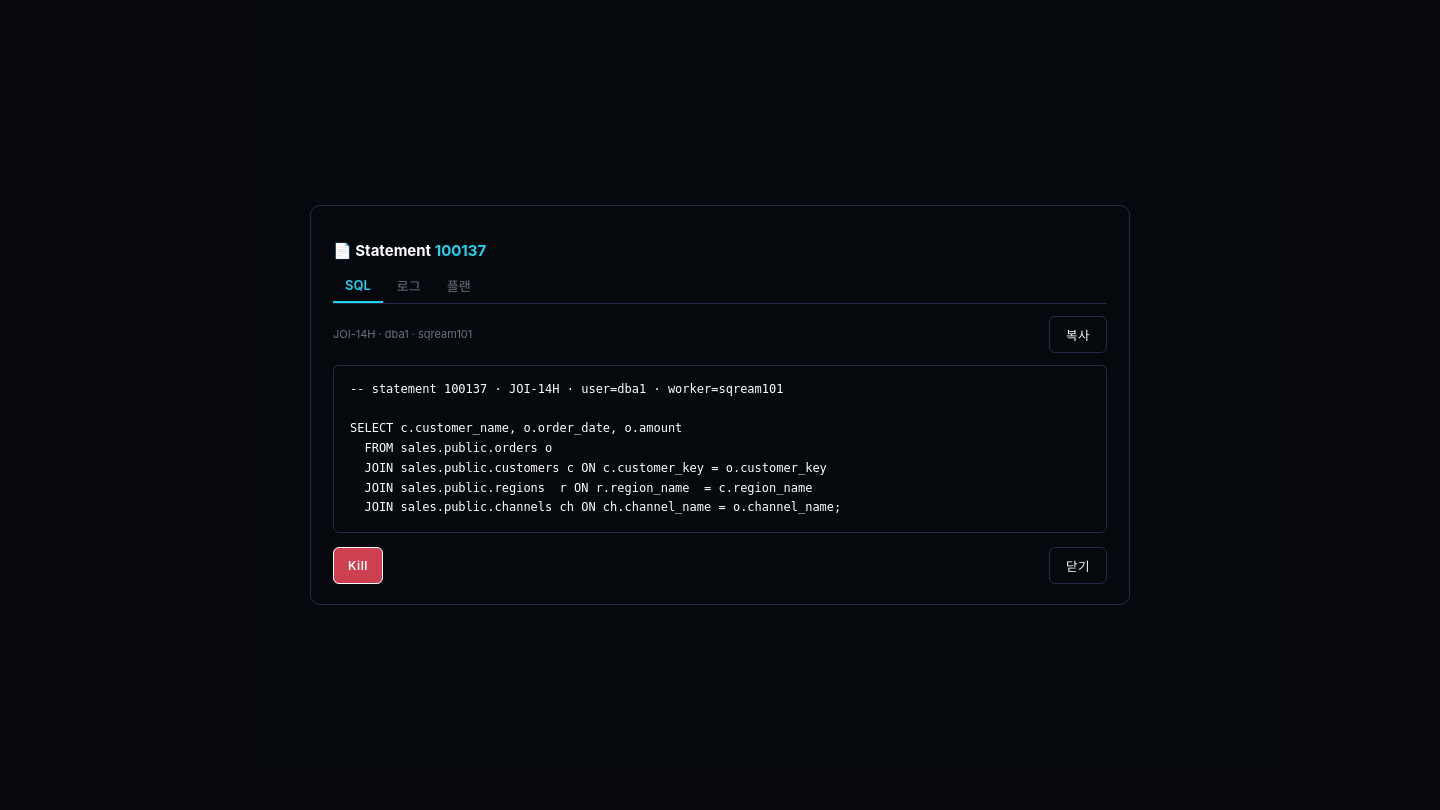
Kill › 확인 다이얼로그 — 사유 필수·STOP_STATEMENT 명령문, 목업 표기는 없다 (X12)
Click the button "Kill".
click(358, 566)  # box x1=333 y1=547 x2=383 y2=584
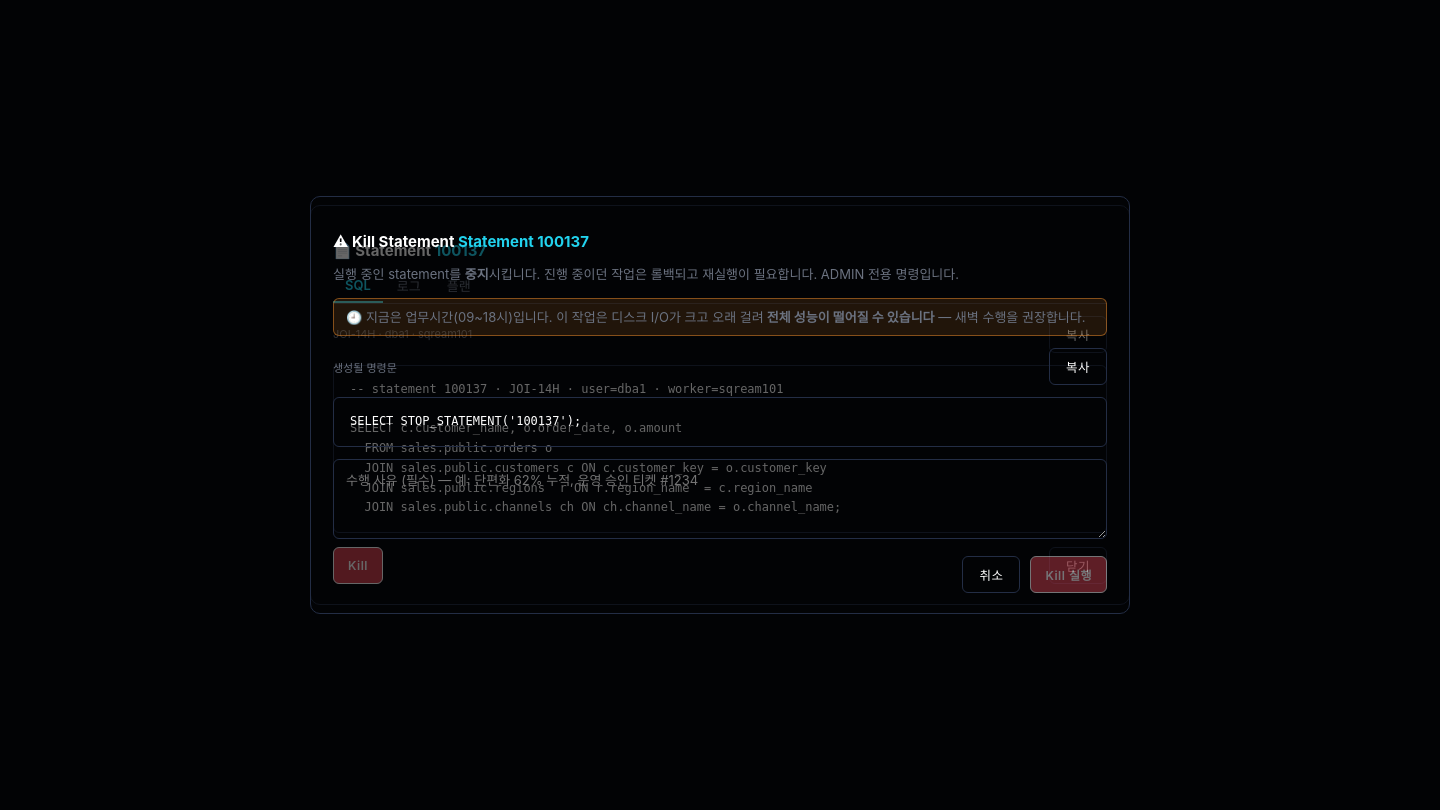
Check: the dialog "Kill Statement" shows "Statement 100137", box x1=458 y1=232 x2=589 y2=251
Check: the dialog "Kill Statement" shows "SELECT STOP_STATEMENT('100137');", box x1=350 y1=414 x2=581 y2=428
Check: the button "Kill 실행" is disabled, box x1=1030 y1=556 x2=1107 y2=593
